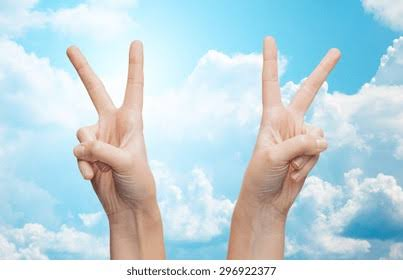peace_sign: (62, 40, 162, 212), (247, 30, 344, 204)
